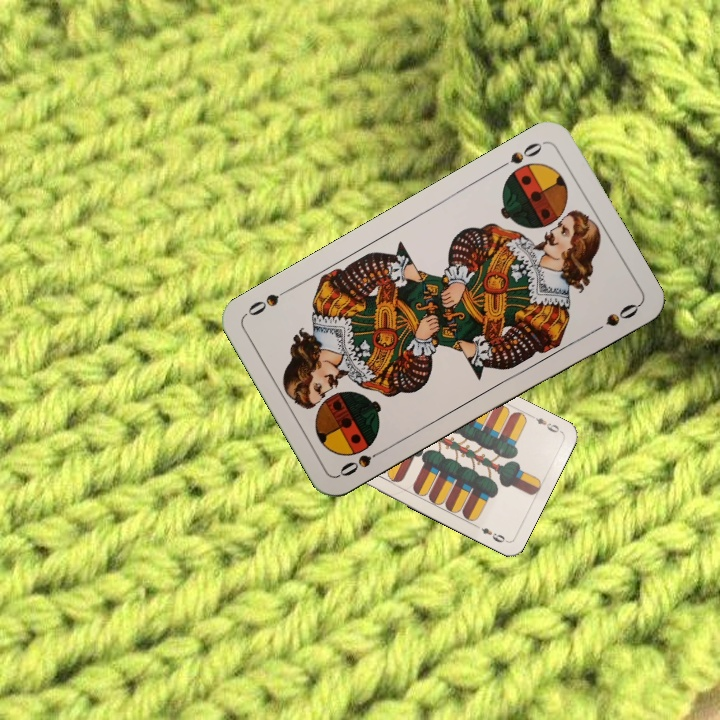E9: (526, 411, 564, 435)
SO: (335, 444, 390, 480), (493, 137, 548, 173)
